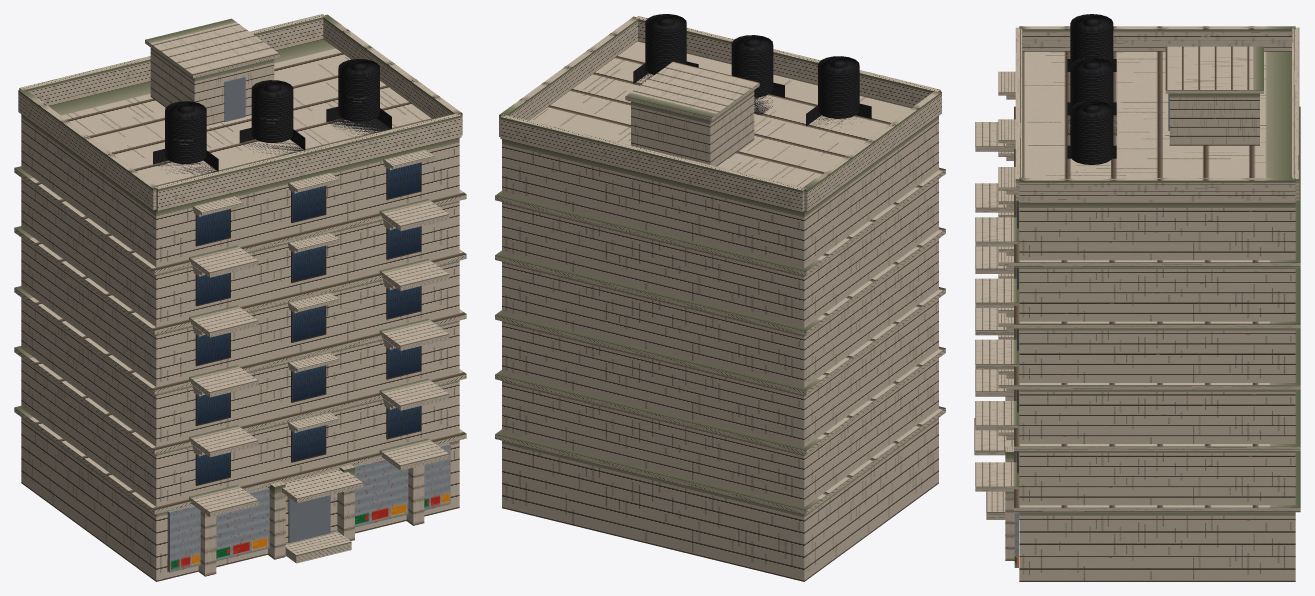
The model's file is mumbai_urban_building_aaa_lod2.glb.
3 views of the same model, side by side, from view 1: azimuth 30°, elevation 25°; view 2: azimuth 150°, elevation 25°; view 3: azimuth 270°, elevation 25° (orthographic). The views are drawn at different scales.
Parts seen in each view (by area): view 1: Residential_Walls_node, Rooftop_Structure_node, Ground_Structure_node, Windows_Glass_node, Balcony_Slabs_node, Sintex_Water_Tanks_node, Shop_Fronts_node, Entrance_Gate_node, Mumty_Steel_Door_node; view 2: Residential_Walls_node, Rooftop_Structure_node, Ground_Structure_node, Sintex_Water_Tanks_node; view 3: Residential_Walls_node, Rooftop_Structure_node, Ground_Structure_node, Balcony_Slabs_node, Sintex_Water_Tanks_node.
Boxes of the visible parts, <box> form: Residential_Walls_node: <box>14,39,466,514</box>; Rooftop_Structure_node: <box>18,14,462,211</box>; Ground_Structure_node: <box>21,417,459,581</box>; Windows_Glass_node: <box>195,162,421,485</box>; Balcony_Slabs_node: <box>189,199,449,517</box>; Sintex_Water_Tanks_node: <box>153,59,391,176</box>; Shop_Fronts_node: <box>167,443,450,572</box>; Entrance_Gate_node: <box>288,495,330,543</box>; Mumty_Steel_Door_node: <box>224,77,245,121</box>; Residential_Walls_node: <box>495,41,945,514</box>; Rooftop_Structure_node: <box>499,16,941,212</box>; Ground_Structure_node: <box>502,418,938,581</box>; Sintex_Water_Tanks_node: <box>633,14,871,126</box>; Residential_Walls_node: <box>998,51,1300,512</box>; Rooftop_Structure_node: <box>1015,26,1299,202</box>; Ground_Structure_node: <box>974,396,1295,581</box>; Balcony_Slabs_node: <box>975,122,1018,491</box>; Sintex_Water_Tanks_node: <box>1067,14,1116,174</box>.
Bounding box in the file's own units: 18 × 23.84 × 15.95.
5 materials, 4 textured.
